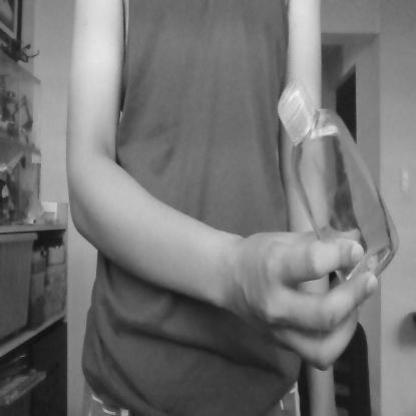Plastic Bottle: (272, 78, 400, 300)
